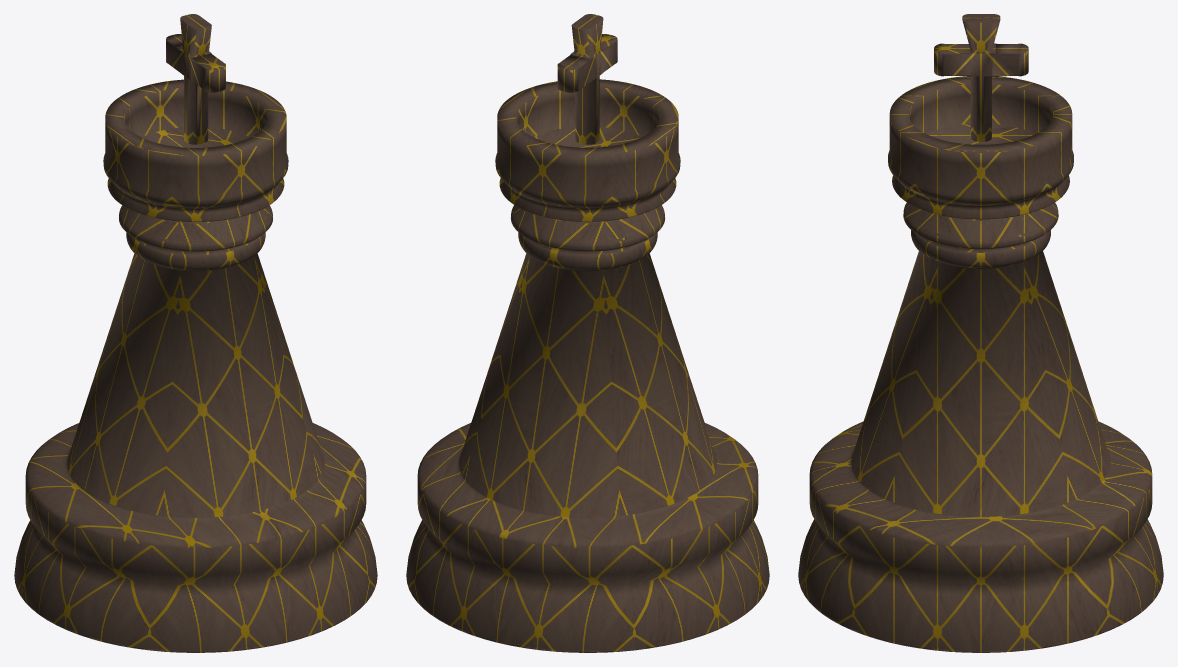
File: ALL.gltf
3 renders of one model, left to right at view 1: azimuth 30°, elevation 25°; view 2: azimuth 150°, elevation 25°; view 3: azimuth 270°, elevation 25°, orthographic.
Parts seen in each view (by area): view 1: KingBlack; view 2: KingBlack; view 3: KingBlack.
Boxes of the visible parts, x1,y1,x2,y2 form: KingBlack: [14, 14, 377, 652]; KingBlack: [406, 14, 769, 652]; KingBlack: [798, 14, 1163, 652].
Size of the model in its own units: 0.0218 by 0.0367 by 0.0218.
1 material, 1 textured.
